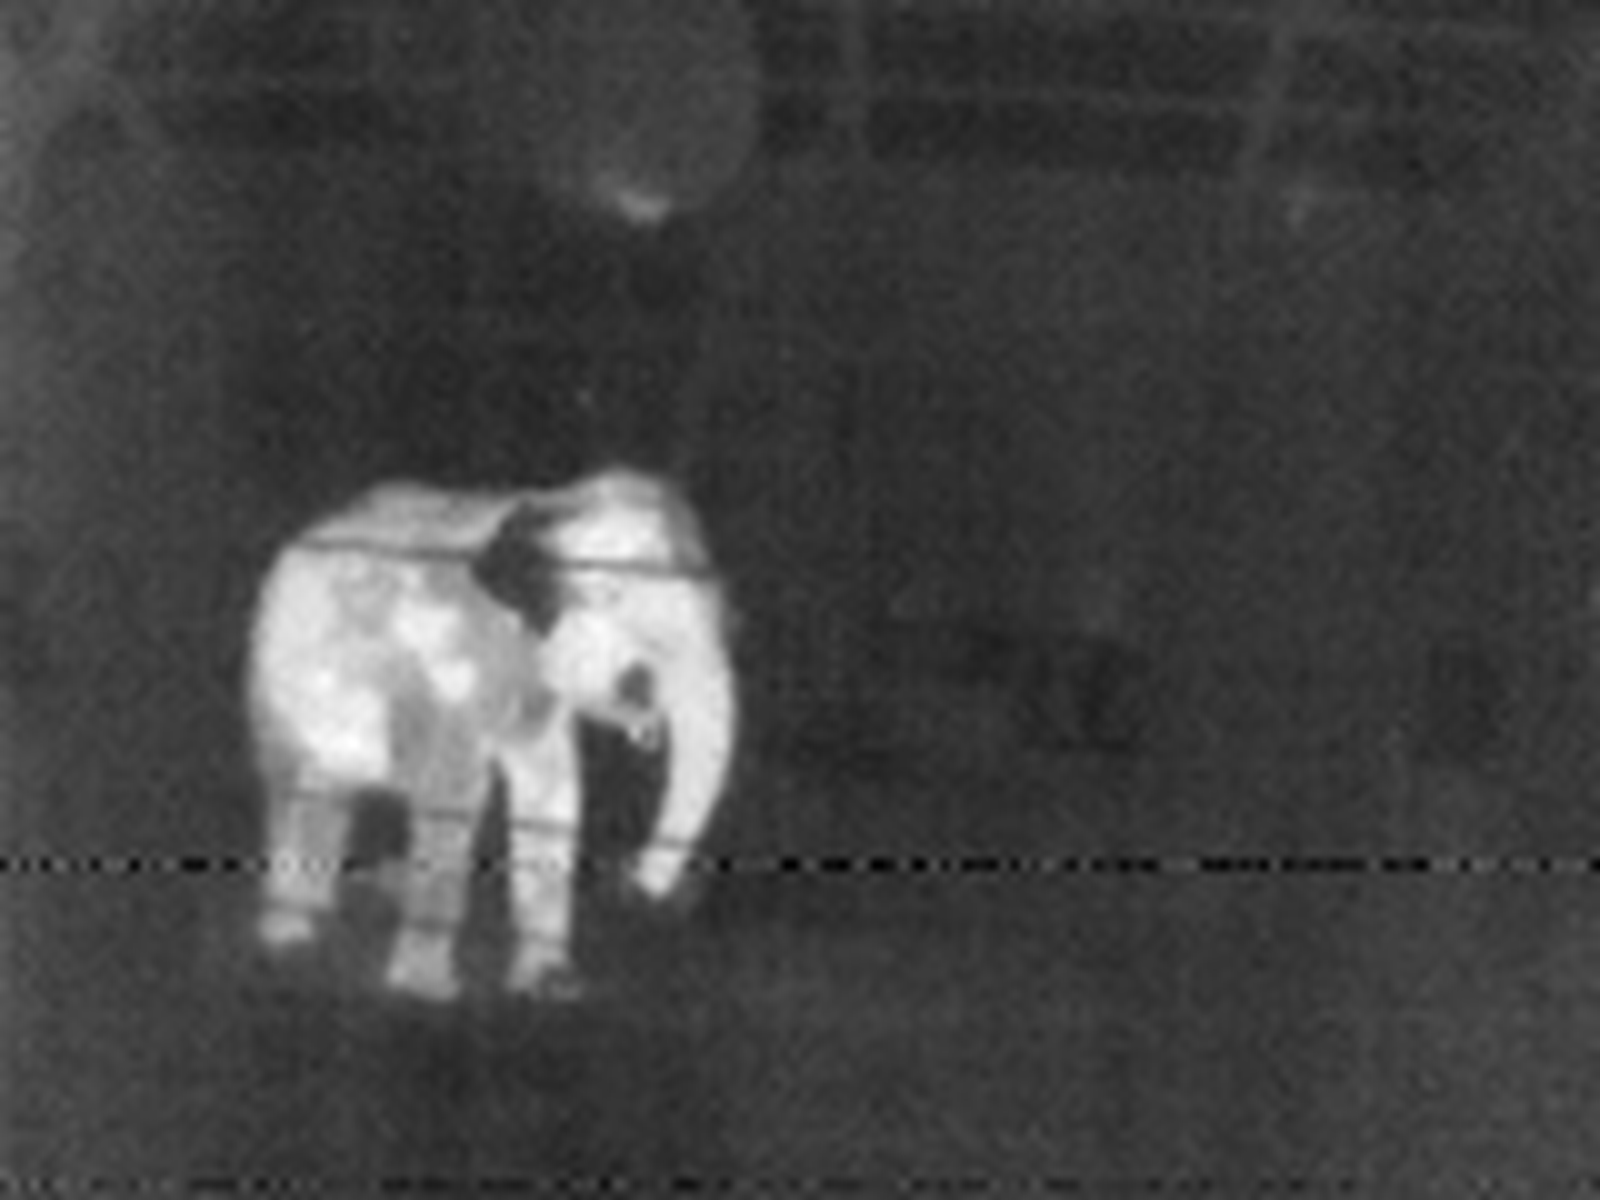elephant: (191, 440, 671, 1071)
